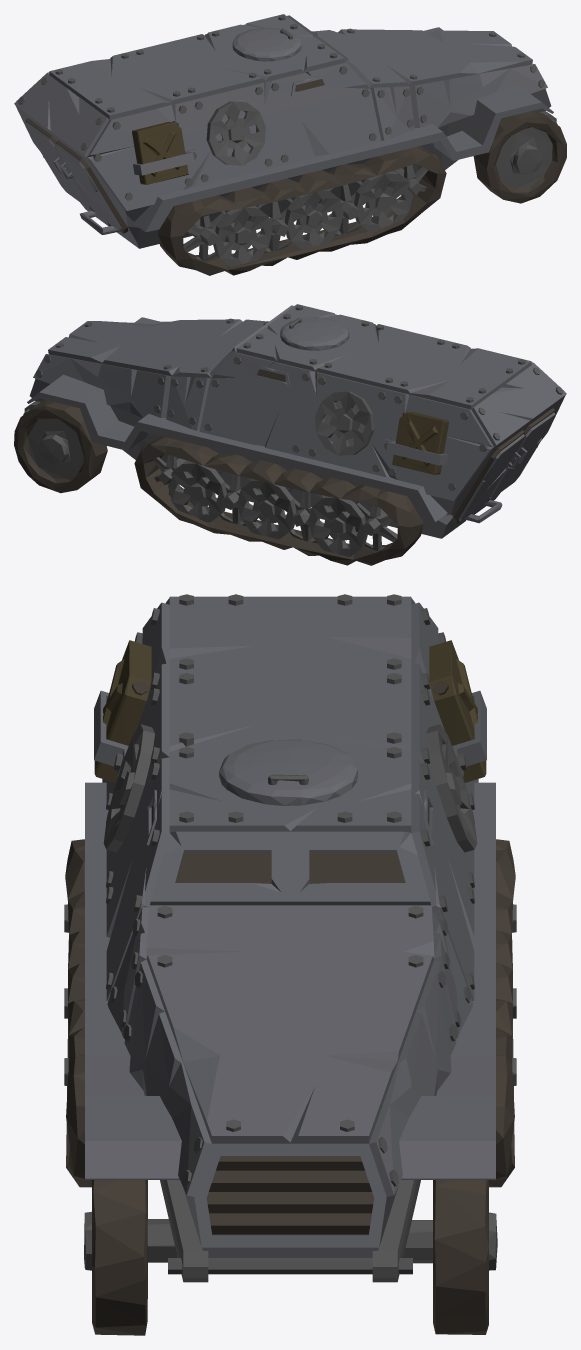
File: asset.glb
3 renders of one model, top to bottom at view 1: azimuth 30°, elevation 25°; view 2: azimuth 150°, elevation 25°; view 3: azimuth 270°, elevation 25°, orthographic. The views are drawn at different scales.
Visible parts, largest first — view 1: armored car7; view 2: armored car7; view 3: armored car7.
Part boxes in pixels (x1=…): armored car7: x1=14, y1=14, x2=566, y2=275; armored car7: x1=14, y1=304, x2=566, y2=565; armored car7: x1=64, y1=594, x2=516, y2=1335.
Size of the model in its own units: 5.1 by 1.85 by 2.08.
